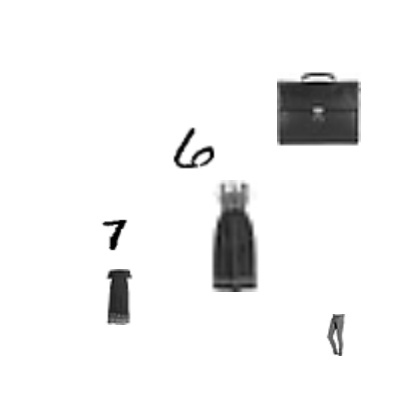6: (164, 124, 220, 180)
7: (94, 211, 136, 253)
Bag: (277, 67, 361, 151)
Dress: (177, 180, 289, 292), (90, 269, 146, 325)
Trouser: (315, 314, 357, 356)
